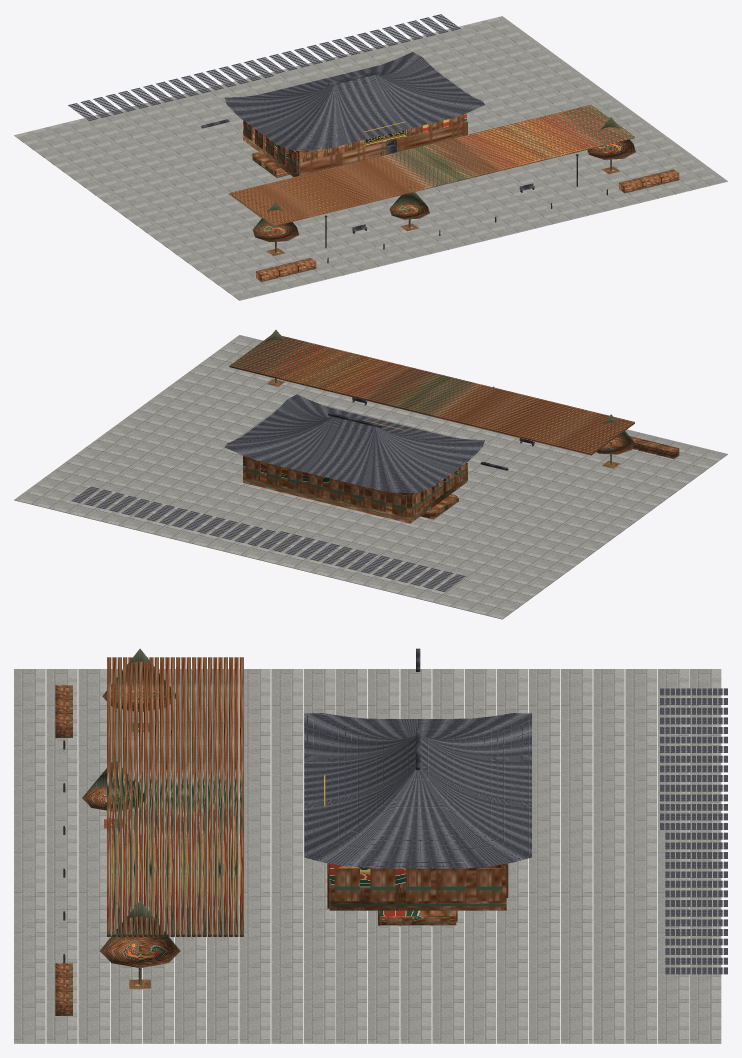
3 renders of one model, top to bottom at view 1: azimuth 30°, elevation 25°; view 2: azimuth 150°, elevation 25°; view 3: azimuth 270°, elevation 25°, orthographic. The views are drawn at different scales.
Visible parts, largest first — view 1: 11140_02_04605_047_01__plinth_ground_base, 11140_02_04605_047_02__mass_body_facade, 11140_02_04605_047_03__roof_deck_structure, 11140_02_04605_047_06__landscape_greenery, 11140_02_04605_047_05__window_sash_glass, 11140_02_04605_047_05__door_hardware_iron; view 2: 11140_02_04605_047_01__plinth_ground_base, 11140_02_04605_047_02__mass_body_facade, 11140_02_04605_047_03__roof_deck_structure, 11140_02_04605_047_06__landscape_greenery; view 3: 11140_02_04605_047_01__plinth_ground_base, 11140_02_04605_047_03__roof_deck_structure, 11140_02_04605_047_02__mass_body_facade, 11140_02_04605_047_06__landscape_greenery.
Part boxes in pixels (left/top/right/bottom): 11140_02_04605_047_01__plinth_ground_base: left=14, top=16, right=727, bottom=300; 11140_02_04605_047_02__mass_body_facade: left=229, top=104, right=634, bottom=226; 11140_02_04605_047_03__roof_deck_structure: left=68, top=14, right=484, bottom=150; 11140_02_04605_047_06__landscape_greenery: left=252, top=117, right=679, bottom=281; 11140_02_04605_047_05__window_sash_glass: left=279, top=114, right=464, bottom=173; 11140_02_04605_047_05__door_hardware_iron: left=324, top=139, right=607, bottom=263; 11140_02_04605_047_01__plinth_ground_base: left=14, top=335, right=727, bottom=619; 11140_02_04605_047_02__mass_body_facade: left=229, top=335, right=634, bottom=523; 11140_02_04605_047_03__roof_deck_structure: left=71, top=394, right=484, bottom=591; 11140_02_04605_047_06__landscape_greenery: left=266, top=330, right=679, bottom=468; 11140_02_04605_047_01__plinth_ground_base: left=14, top=669, right=721, bottom=1043; 11140_02_04605_047_03__roof_deck_structure: left=304, top=688, right=727, bottom=974; 11140_02_04605_047_02__mass_body_facade: left=107, top=657, right=508, bottom=936; 11140_02_04605_047_06__landscape_greenery: left=55, top=648, right=180, bottom=1015.
Size of the model in its own units: 69.95 by 9.55 by 56.48.
Materials: 7 (7 with a texture image).
